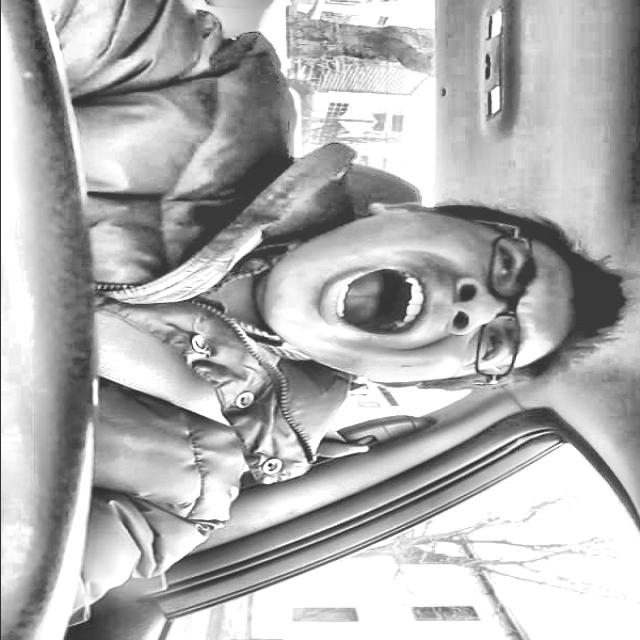open_eyes: (485, 233, 528, 290), (472, 322, 514, 378)
open_mouth: (313, 245, 438, 355)
